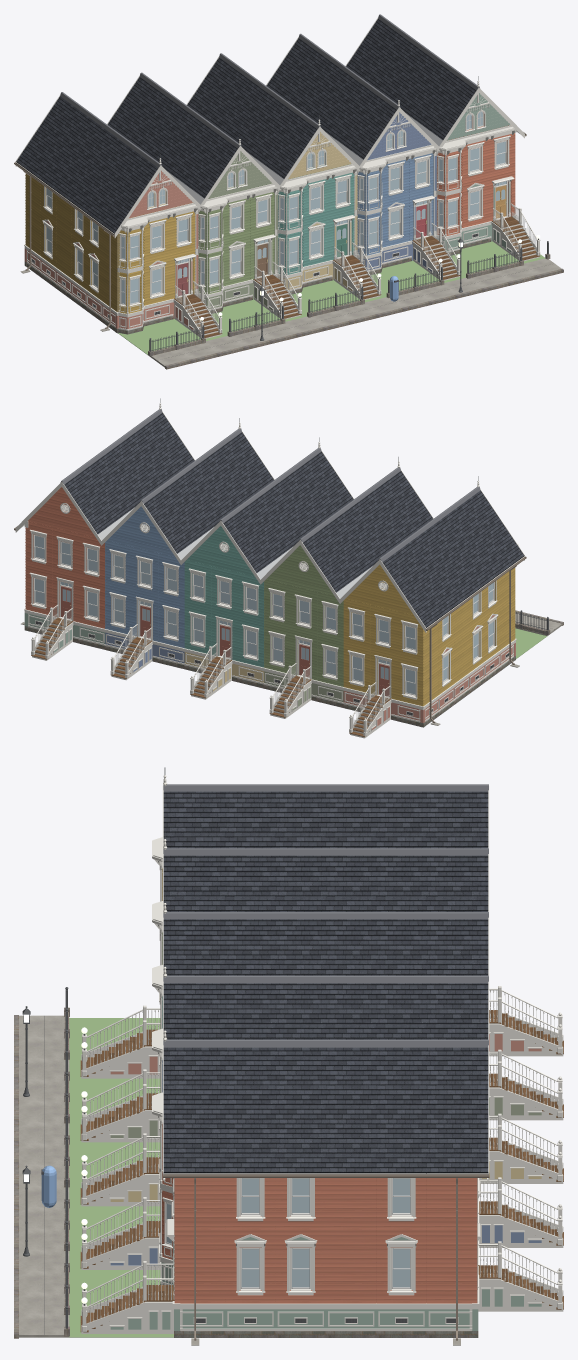
File: building_assembled.glb
The picture shows the model from 3 angles, top to bottom: view 1: azimuth 30°, elevation 25°; view 2: azimuth 150°, elevation 25°; view 3: azimuth 270°, elevation 25°; orthographic projection. The views are drawn at different scales.
Parts seen in each view (by area): view 1: geometry_146, geometry_166, geometry_154, geometry_158, geometry_150, geometry_162, geometry_171, geometry_117, geometry_813, geometry_1196, geometry_1495, geometry_1545 (+89 smaller); view 2: geometry_166, geometry_146, geometry_154, geometry_158, geometry_150, geometry_162, geometry_112, geometry_1151, geometry_1494, geometry_808, geometry_465, geometry_1185 (+86 smaller); view 3: geometry_1510, geometry_1530, geometry_1514, geometry_1526, geometry_1518, geometry_1522, geometry_1495, geometry_132, geometry_143, geometry_828, geometry_1171, geometry_485 (+81 smaller).
Boxes of the visible parts, x1,y1,x2,y2 form: geometry_146: (16, 96, 78, 175); geometry_166: (96, 155, 158, 233); geometry_154: (50, 121, 109, 197); geometry_158: (65, 132, 124, 208); geometry_150: (35, 110, 93, 186); geometry_162: (81, 144, 139, 219); geometry_171: (118, 319, 227, 355); geometry_117: (173, 281, 222, 338); geometry_813: (332, 242, 381, 299); geometry_1196: (345, 96, 396, 159); geometry_1495: (491, 203, 540, 260); geometry_1545: (425, 77, 476, 139); geometry_166: (462, 490, 524, 569); geometry_146: (382, 549, 444, 627); geometry_154: (416, 526, 474, 603); geometry_158: (431, 515, 490, 591); geometry_150: (401, 538, 459, 613); geometry_162: (447, 504, 505, 580); geometry_112: (345, 564, 413, 615); geometry_1151: (107, 506, 175, 557); geometry_1494: (28, 487, 95, 537); geometry_808: (187, 526, 254, 576); geometry_465: (266, 545, 334, 595); geometry_1185: (144, 491, 195, 553); geometry_1510: (426, 1047, 488, 1173); geometry_1530: (163, 1047, 225, 1173); geometry_1514: (376, 1047, 426, 1173); geometry_1526: (225, 1047, 275, 1173); geometry_1518: (326, 1047, 376, 1173); geometry_1522: (275, 1047, 325, 1173); geometry_1495: (81, 1261, 173, 1333); geometry_132: (426, 791, 488, 848); geometry_143: (163, 791, 225, 848); geometry_828: (426, 919, 488, 975); geometry_1171: (426, 983, 488, 1039); geometry_485: (426, 855, 488, 911).
Bounding box in the file's own units: 31.5 × 12.46 × 21.85.
40 materials, 12 textured.
